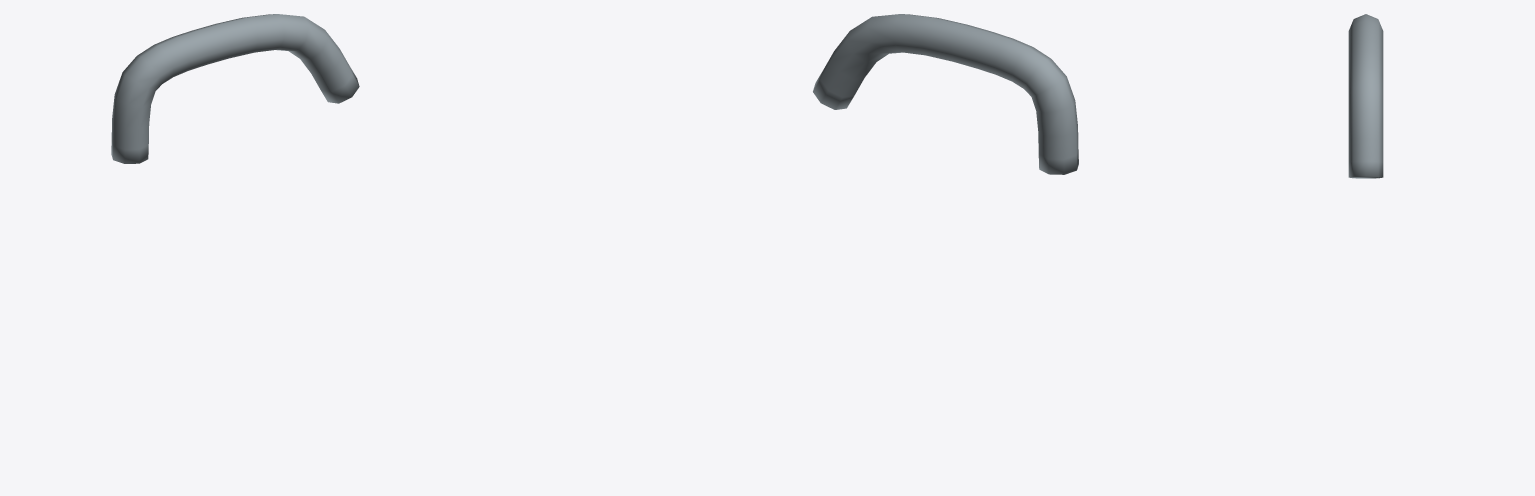
The model's file is duck-steelcup.fbx.
3 renders of one model, left to right at view 1: azimuth 30°, elevation 25°; view 2: azimuth 150°, elevation 25°; view 3: azimuth 270°, elevation 25°, orthographic. The views are drawn at different scales.
Visible parts, largest first — view 1: duck-steelcup; view 2: duck-steelcup; view 3: duck-steelcup.
Part boxes in pixels (x1,y1,x2,y2): duck-steelcup: [111, 14, 359, 163]; duck-steelcup: [813, 14, 1078, 174]; duck-steelcup: [1348, 14, 1383, 178].
Size of the model in its own units: 100 by 76.2 by 57.26.
